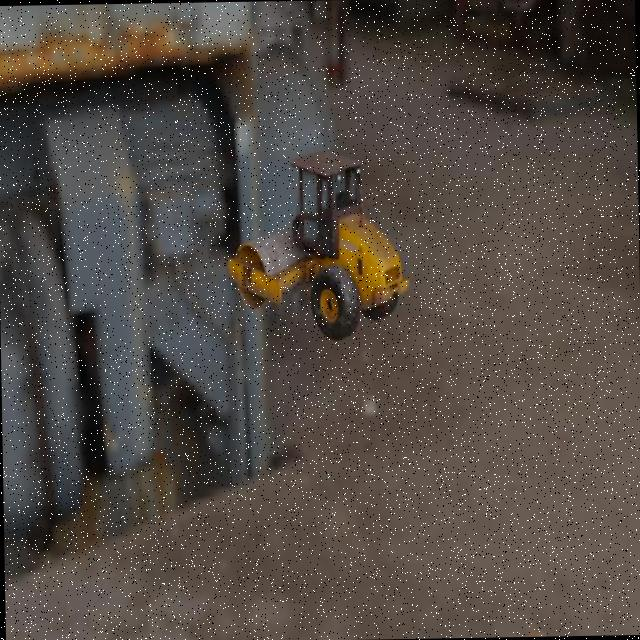Roller: (226, 148, 410, 342)
